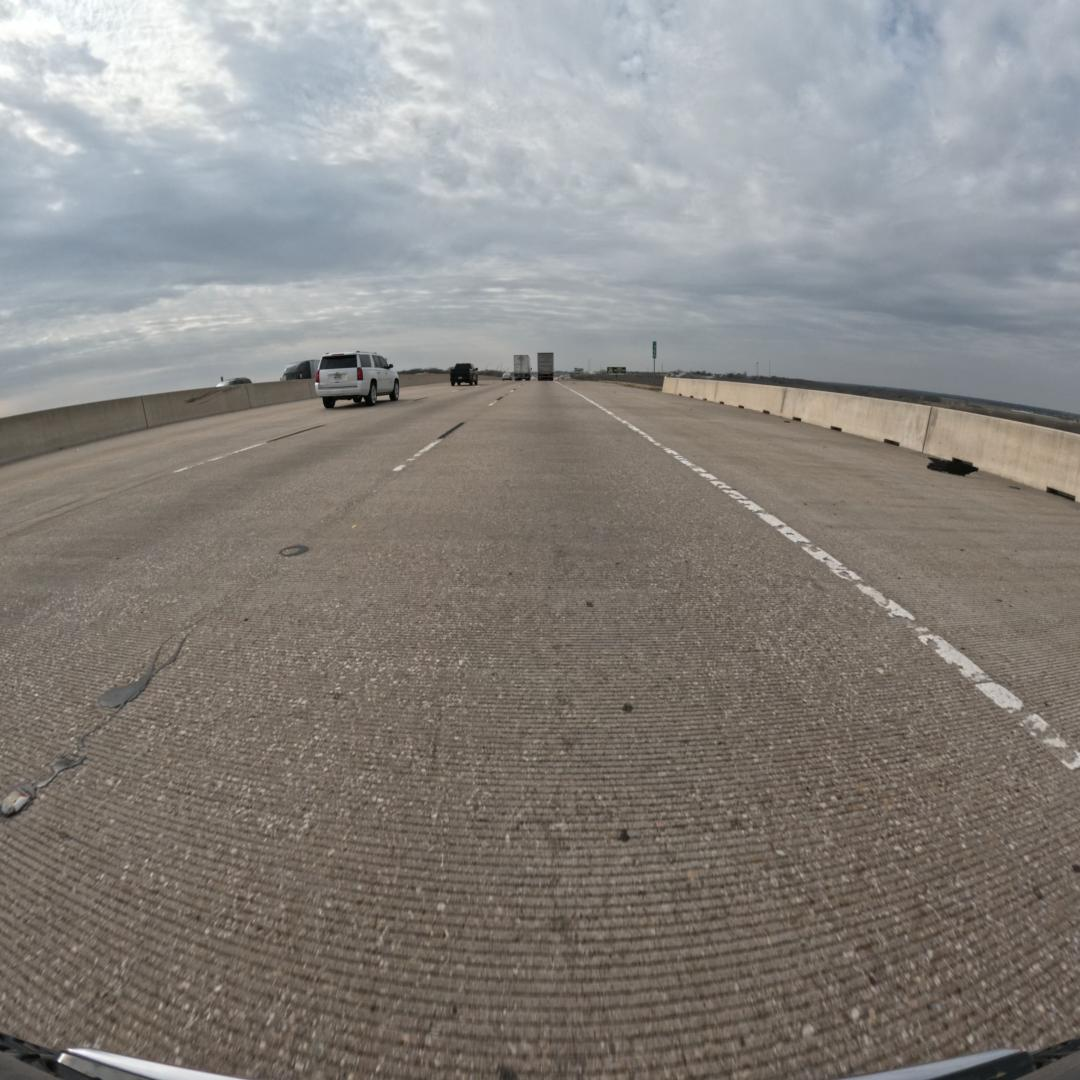lane0: (0, 388, 1080, 1077)
lane1: (0, 401, 455, 788)
